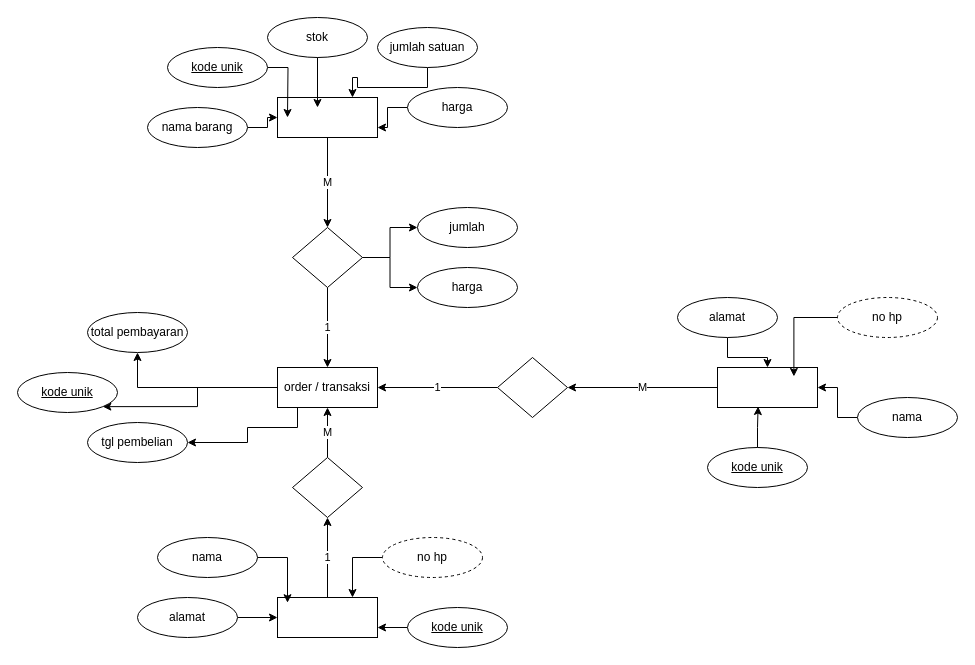
Some shapes in this 975 by 665 pixel diagram are drawn without their labels. The centre of each missing label's shape, as x and y in pixels:
"admin" belongs at point (327, 617).
"customer" belongs at point (767, 387).
"dilakukan" belongs at point (327, 257).
"melakukan" belongs at point (532, 387).
"menangani" belongs at point (327, 487).
"produk" belongs at point (327, 117).
